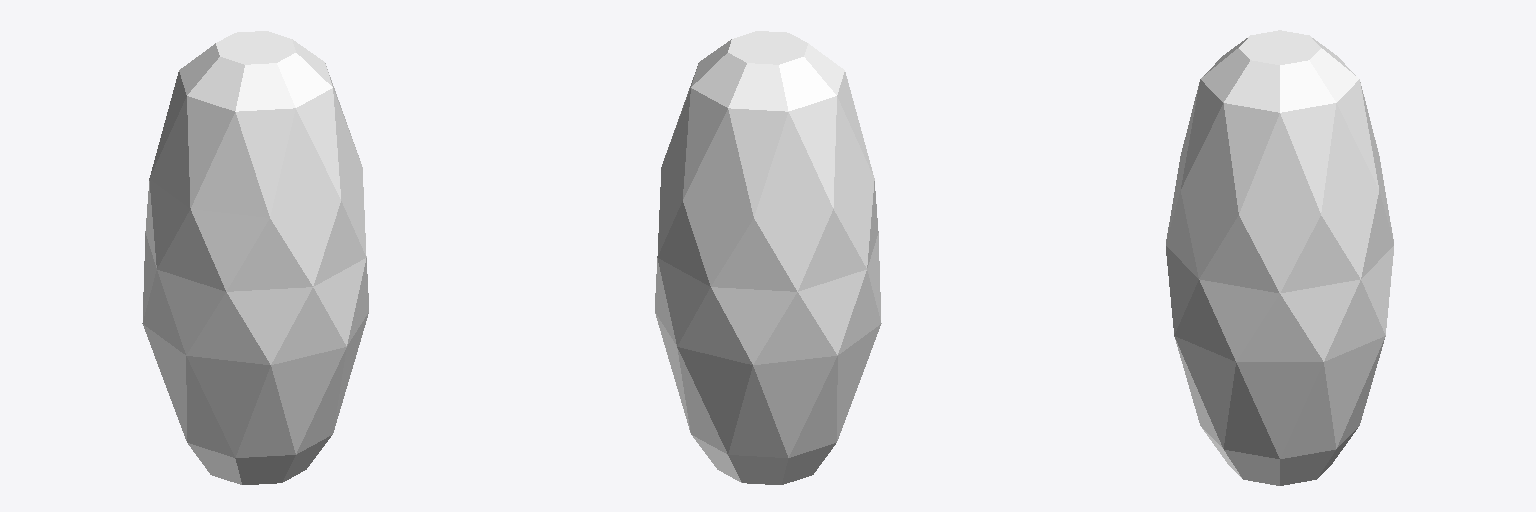
Rendered from SjoepennaFloorLampV14.obj.
The picture shows the model from 3 angles: view 1: azimuth 30°, elevation 25°; view 2: azimuth 150°, elevation 25°; view 3: azimuth 270°, elevation 25°; orthographic projection.
Parts seen in each view (by area): view 1: SjoepennaFloorLampV13.001; view 2: SjoepennaFloorLampV13.001; view 3: SjoepennaFloorLampV13.001.
Boxes of the visible parts, box(x1,y1,x2,y2) form: SjoepennaFloorLampV13.001: box(142, 31, 368, 484); SjoepennaFloorLampV13.001: box(655, 31, 881, 484); SjoepennaFloorLampV13.001: box(1166, 30, 1393, 485).
Size of the model in its own units: 431 by 865 by 431.